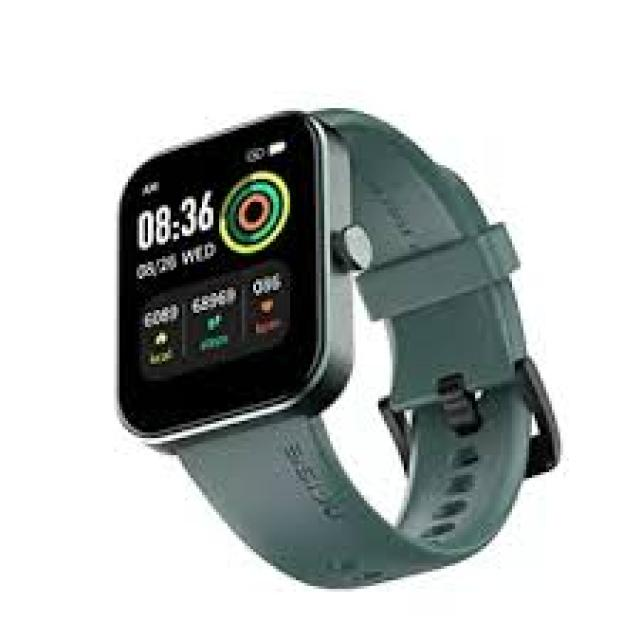objects: (122, 108, 555, 586)
